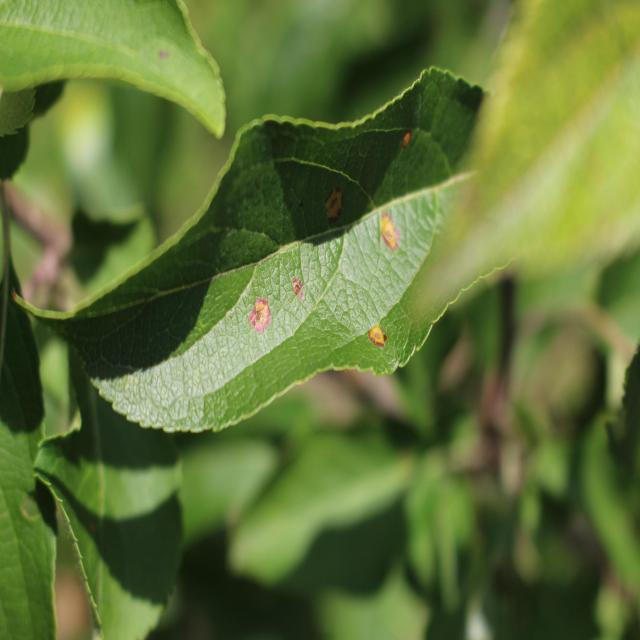Rust: (356, 308, 394, 364), (372, 199, 404, 260), (321, 176, 346, 237), (246, 296, 272, 340), (398, 116, 421, 158), (291, 268, 309, 320)
